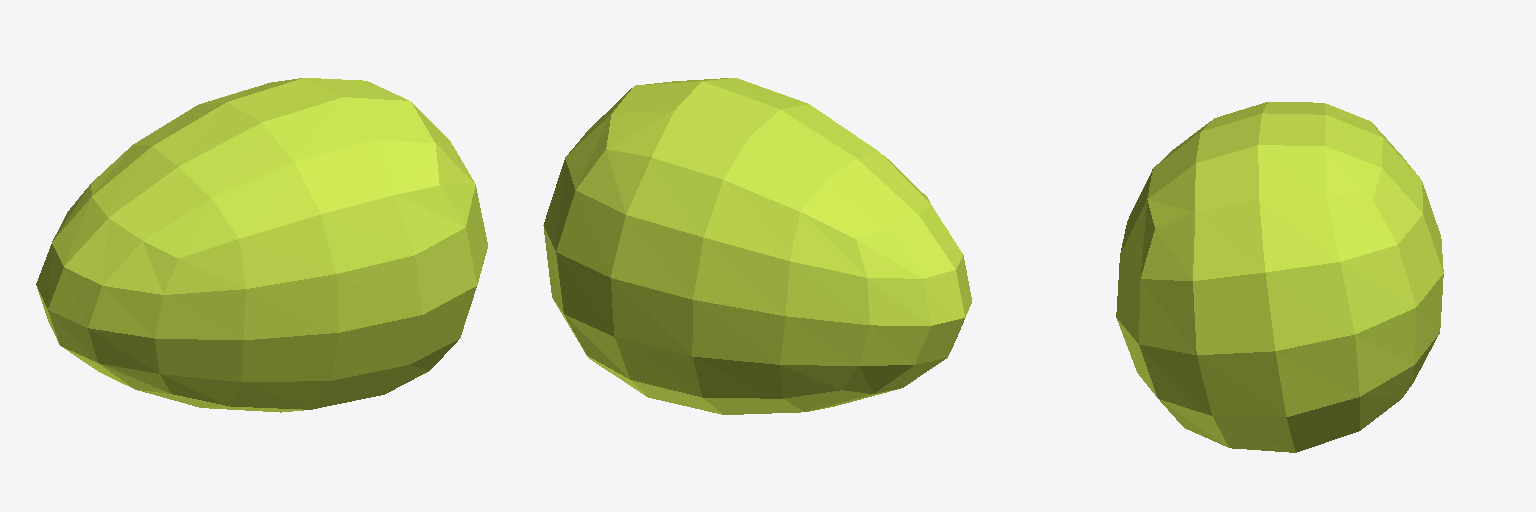
The model's file is manosAmarillo.obj.
The picture shows the model from 3 angles: view 1: azimuth 30°, elevation 25°; view 2: azimuth 150°, elevation 25°; view 3: azimuth 270°, elevation 25°; orthographic projection.
Visible parts, largest first — view 1: Cube.001; view 2: Cube.001; view 3: Cube.001.
Boxes of the visible parts, x1=… form: Cube.001: x1=36, y1=78, x2=487, y2=412; Cube.001: x1=543, y1=78, x2=971, y2=414; Cube.001: x1=1116, y1=102, x2=1443, y2=452.
Size of the model in its own units: 1.06 by 0.7392 by 0.7406.